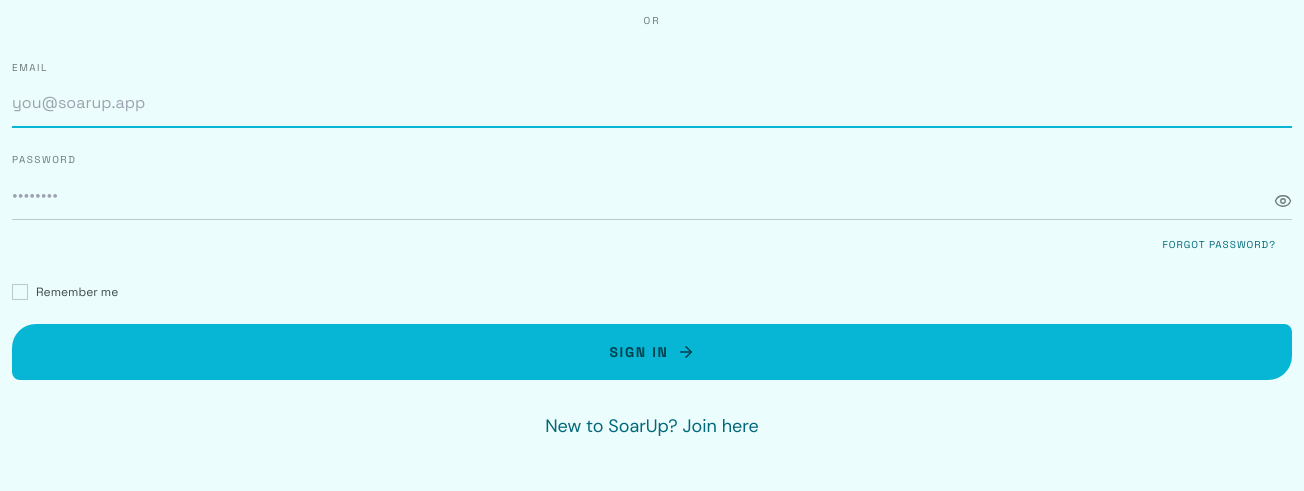
Test: LoginForm — validation › shows invalid email error on bad format
Type "notanemail" into the field labelled "Email" at [652, 104], box [12,79,1292,128]
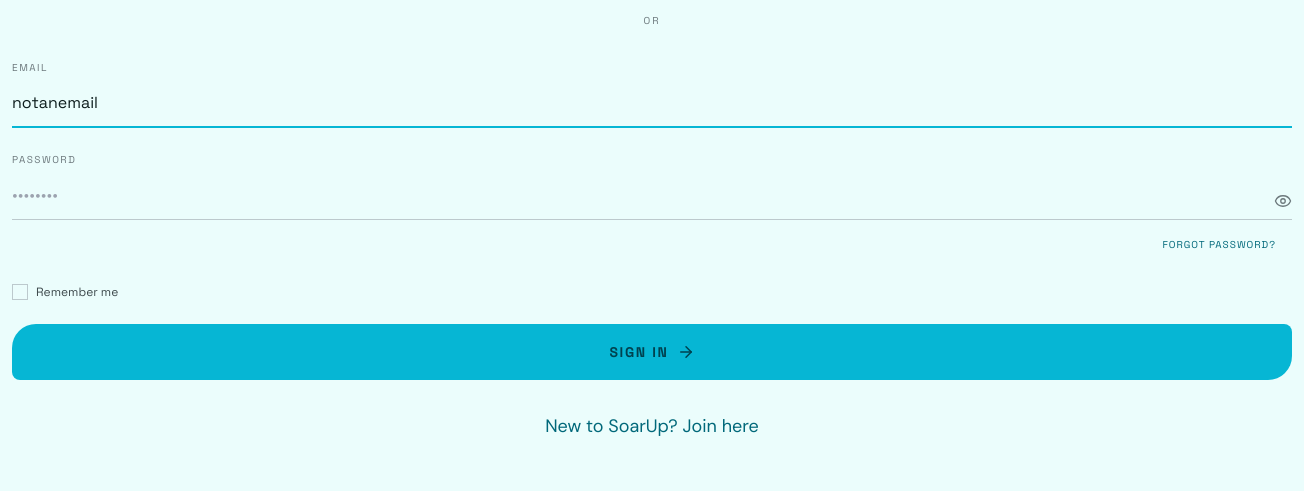
Click the button "Sign in" at [652, 352], box [12,324,1292,380]
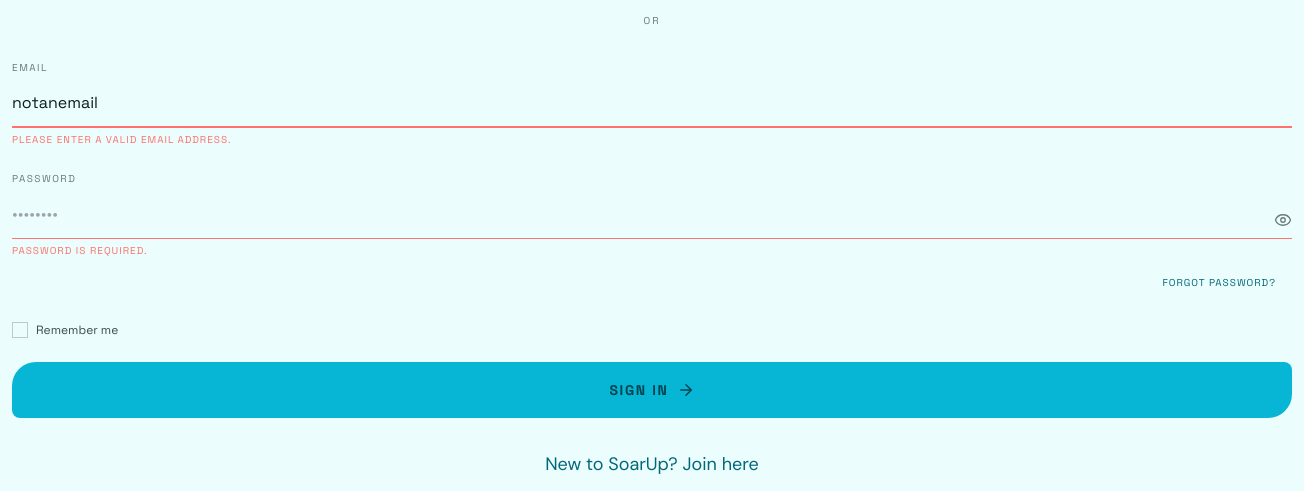
Check: the text "Please enter a valid email address." is shown, box [12,133,232,146]
